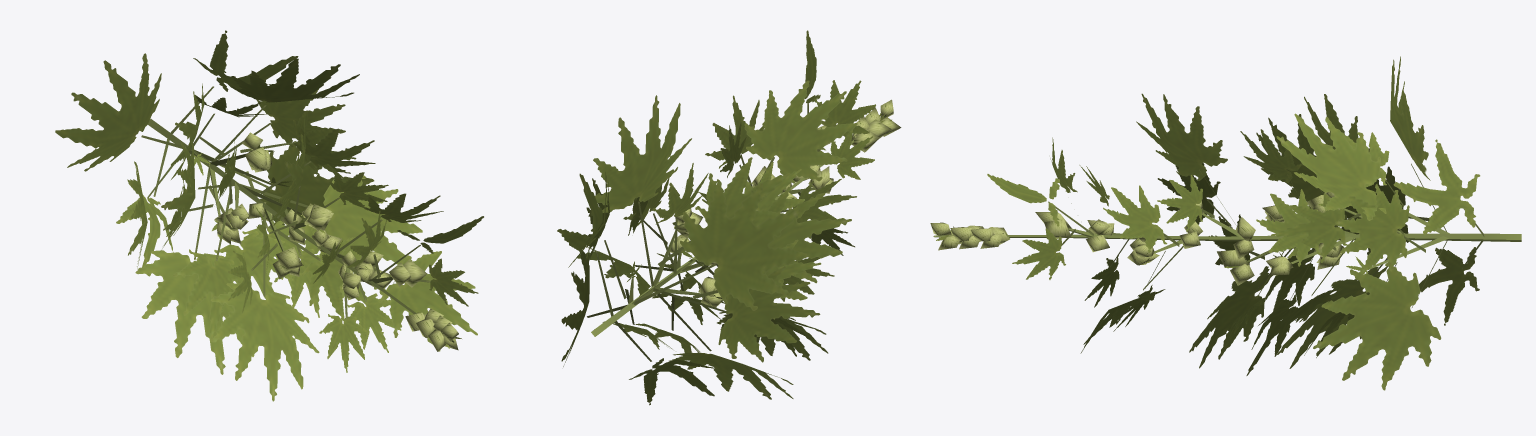
The model's file is p_male_haze_flowering_c1_cards.obj.
3 views of the same model, side by side, from view 1: azimuth 30°, elevation 25°; view 2: azimuth 150°, elevation 25°; view 3: azimuth 270°, elevation 25° (orthographic). The views are drawn at different scales.
Size of the model in its own units: 1.35 by 1.21 by 1.91.
Materials: 1 (1 with a texture image).
